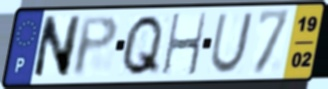7: (254, 8, 294, 78)
H: (160, 11, 209, 78)
N: (30, 14, 84, 82)
P: (71, 14, 120, 79)
Q: (118, 12, 166, 78)
U: (207, 10, 256, 76)
